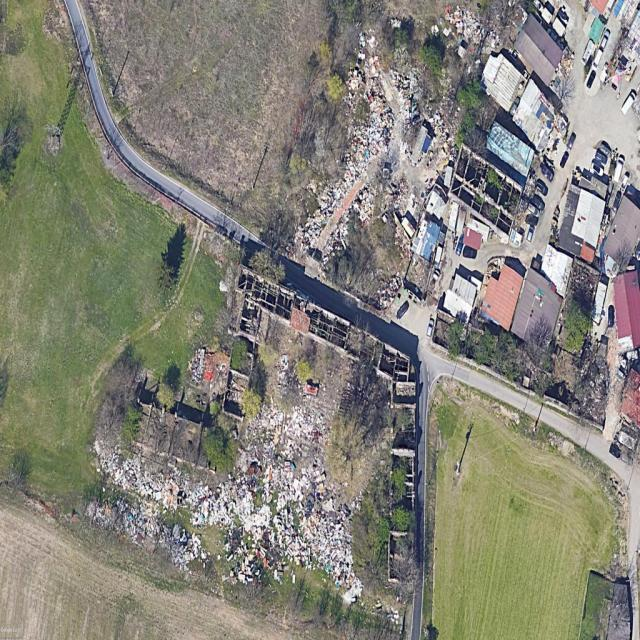dump_site: (217, 407, 373, 632), (90, 437, 220, 533), (84, 490, 211, 580)
